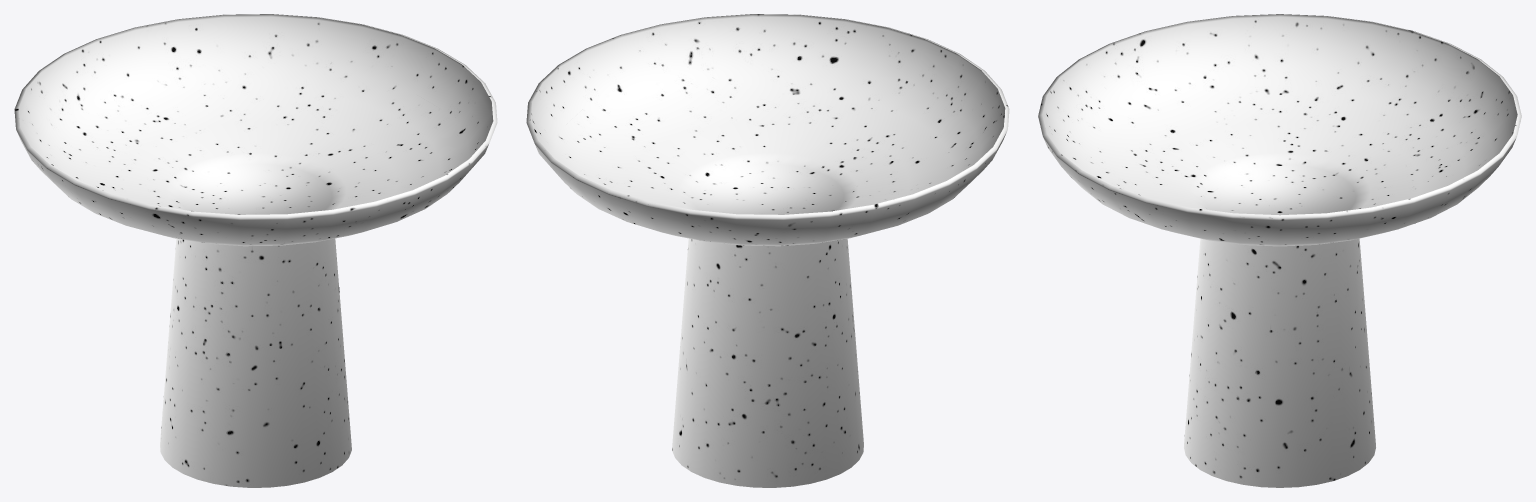
The model's file is ToppingBowl.glb.
3 views of the same model, side by side, from view 1: azimuth 30°, elevation 25°; view 2: azimuth 150°, elevation 25°; view 3: azimuth 270°, elevation 25° (orthographic).
Visible parts, largest first — view 1: Cylinder; view 2: Cylinder; view 3: Cylinder.
Boxes of the visible parts, x1,y1,x2,y2 form: Cylinder: (14, 14, 497, 487); Cylinder: (526, 14, 1009, 487); Cylinder: (1038, 14, 1521, 487).
Size of the model in its own units: 1.07 by 0.8103 by 1.07.
1 material, 1 textured.
